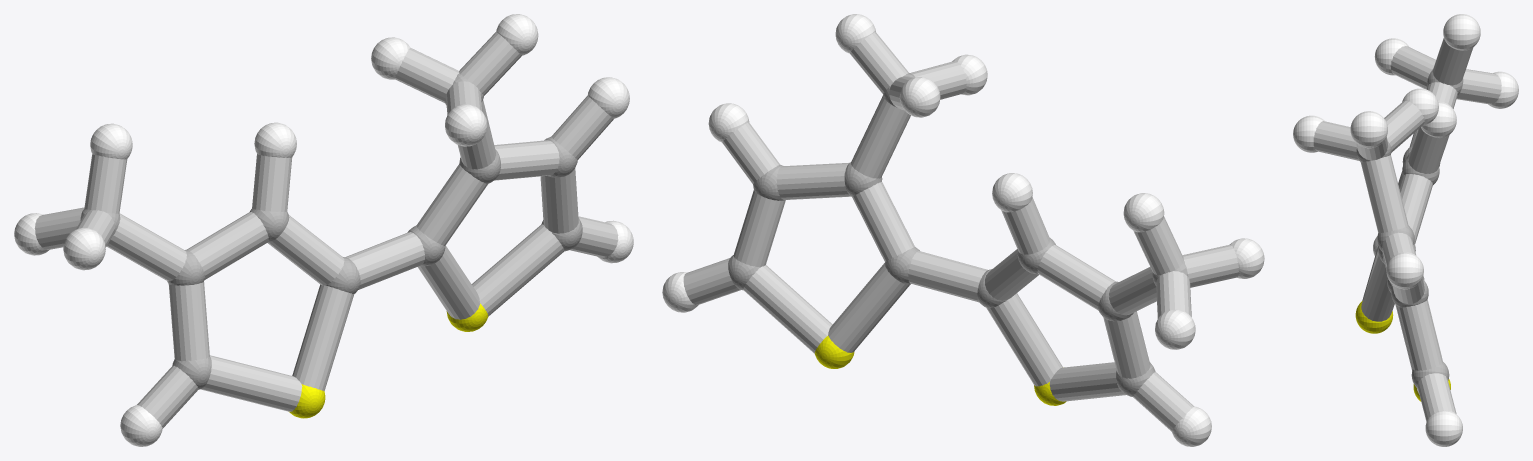
File: Methylthiophene_Phi_10_Theta_210_Methylthiophene.glb
The picture shows the model from 3 angles, left to right: view 1: azimuth 30°, elevation 25°; view 2: azimuth 150°, elevation 25°; view 3: azimuth 270°, elevation 25°; orthographic projection. The views are drawn at different scales.
Visible parts, largest first — view 1: grp7965, grp3621, grp1, grp7241; view 2: grp7965, grp3621, grp1, grp7241; view 3: grp7965, grp3621, grp1, grp7241.
Boxes of the visible parts, <box> form: grp7965: <box>34,31,618,428</box>; grp3621: <box>14,14,633,446</box>; grp1: <box>80,73,582,389</box>; grp7241: <box>289,303,488,418</box>; grp7965: <box>683,32,1238,431</box>; grp3621: <box>662,14,1264,446</box>; grp1: <box>728,73,1188,396</box>; grp7241: <box>814,335,1066,405</box>; grp7965: <box>1313,38,1501,421</box>; grp3621: <box>1293,14,1518,446</box>; grp1: <box>1356,69,1463,388</box>; grp7241: <box>1355,301,1450,401</box>.
Size of the model in its own units: 9.65 by 5.46 by 3.61.
